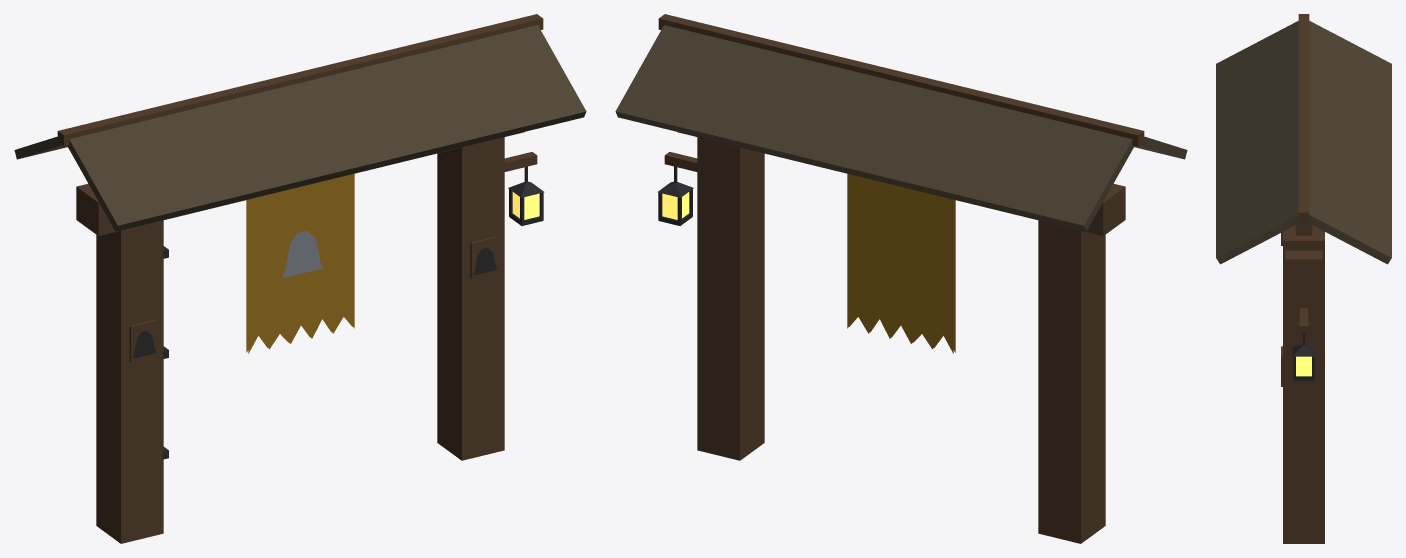
The model's file is gate.glb.
The picture shows the model from 3 angles, left to right: view 1: azimuth 30°, elevation 25°; view 2: azimuth 150°, elevation 25°; view 3: azimuth 270°, elevation 25°; orthographic projection. The views are drawn at different scales.
Parts seen in each view (by area): view 1: Posts, Banner; view 2: Posts, Banner; view 3: Posts.
Boxes of the visible parts, <box> form: Posts: <box>14,14,586,543</box>; Banner: <box>246,174,354,353</box>; Posts: <box>615,14,1187,543</box>; Banner: <box>847,174,955,353</box>; Posts: <box>1216,14,1391,543</box>.
Bounding box in the file's own units: 4.5 × 3.71 × 1.68.
